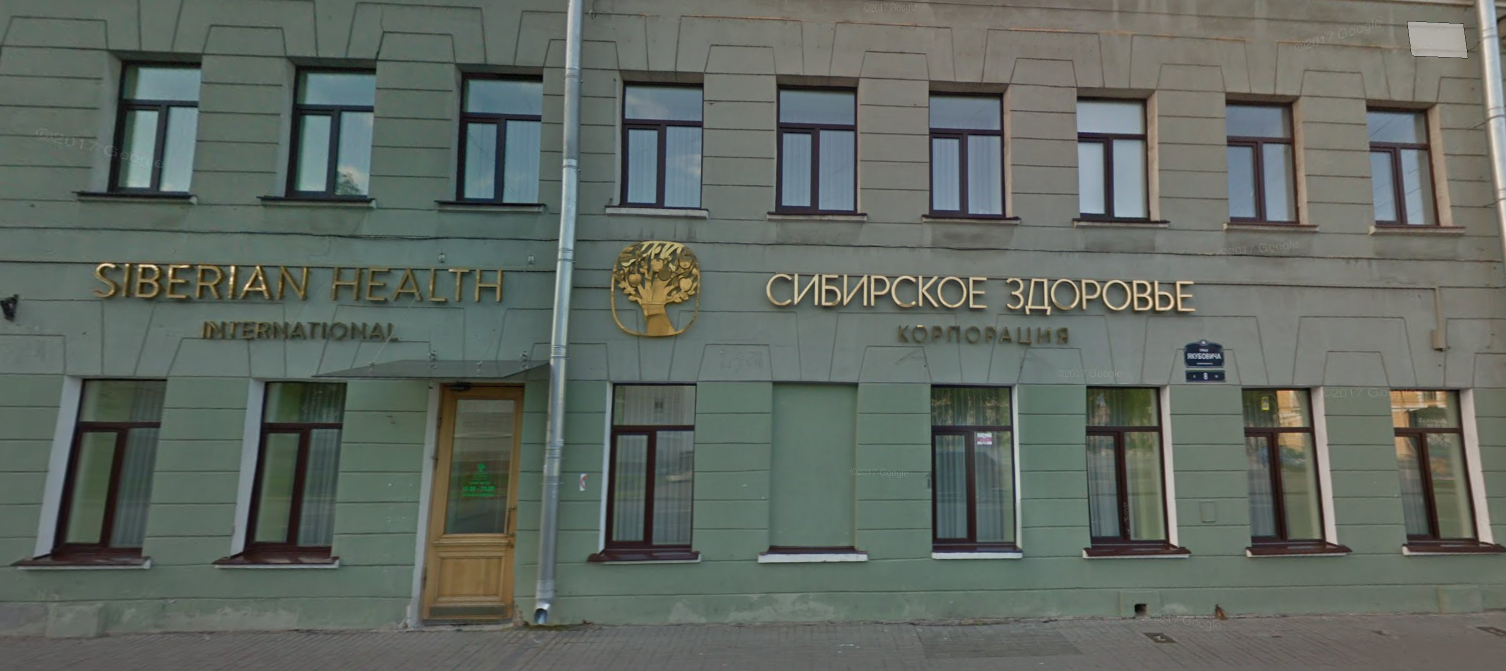door: (432, 385, 518, 632)
signboard: (91, 243, 511, 361), (765, 260, 1201, 357), (600, 229, 712, 352)
window: (242, 378, 340, 570), (52, 376, 150, 560), (598, 383, 694, 565), (1391, 387, 1488, 556), (1085, 385, 1175, 557), (925, 382, 1015, 553), (1238, 386, 1326, 552), (1218, 89, 1316, 226), (287, 59, 375, 205), (770, 74, 861, 215), (456, 66, 542, 214), (617, 78, 708, 213), (117, 53, 195, 204), (924, 87, 1013, 217), (1081, 87, 1159, 223), (1368, 102, 1445, 223)
